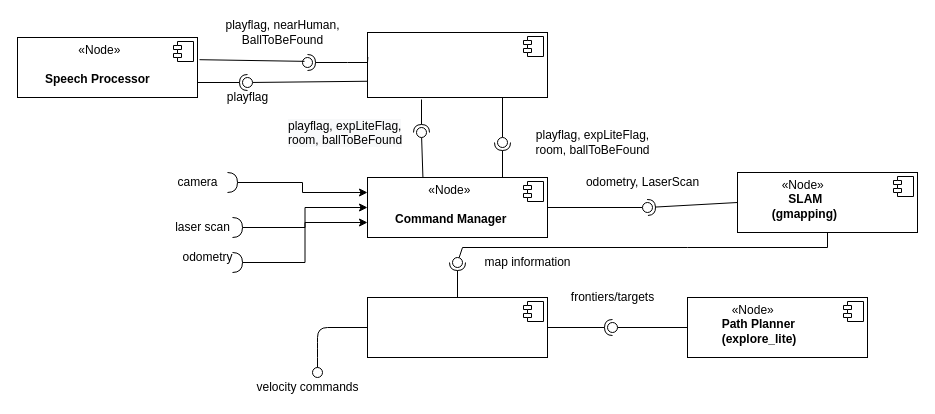
Image size: 935x414. Some labels were removed from this diagram. Each missing label, with the box of its shape:
«Node» Robot Controller (move_base): (366, 296, 548, 358)
«Service» ROS Parameter Server: (366, 32, 548, 98)
